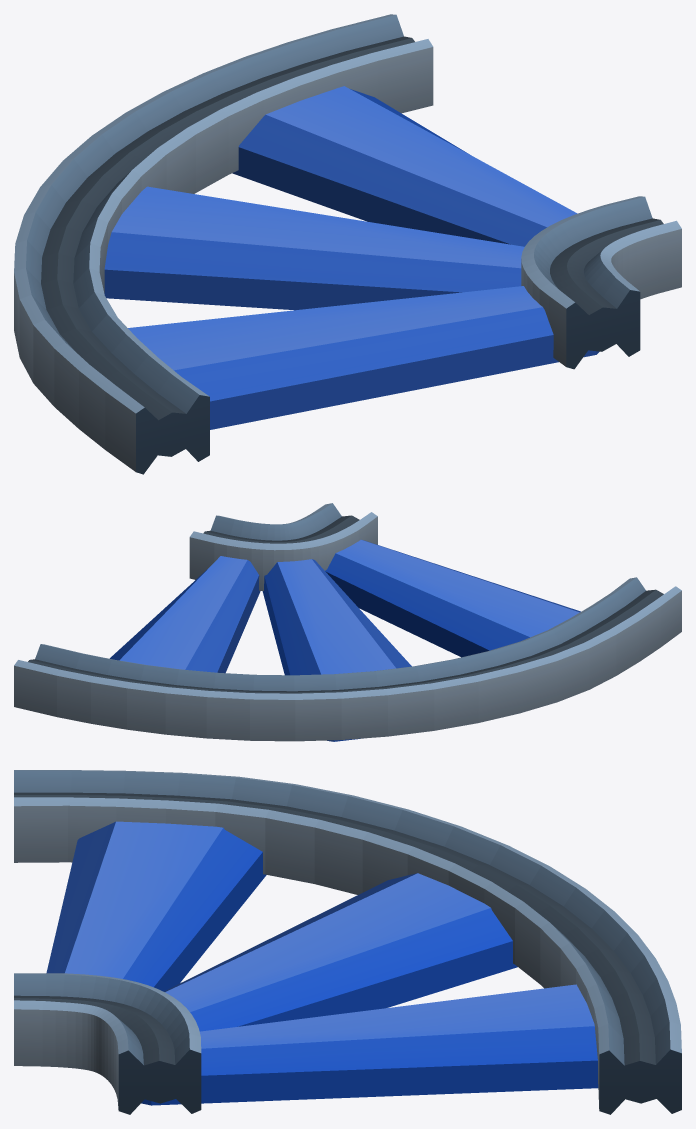
The model's file is 1br-sag-ray.fbx.
3 views of the same model, one above another, from view 1: azimuth 30°, elevation 25°; view 2: azimuth 150°, elevation 25°; view 3: azimuth 270°, elevation 25° (orthographic). The views are drawn at different scales.
Parts seen in each view (by area): view 1: 1br-Sag.001; view 2: 1br-Sag.001; view 3: 1br-Sag.001.
Part boxes in pixels (x1,y1,x2,y2): 1br-Sag.001: (14,14,681,474); 1br-Sag.001: (14,503,681,741); 1br-Sag.001: (14,770,681,1114).
Bounding box in the file's own units: 178 × 19.88 × 177.
